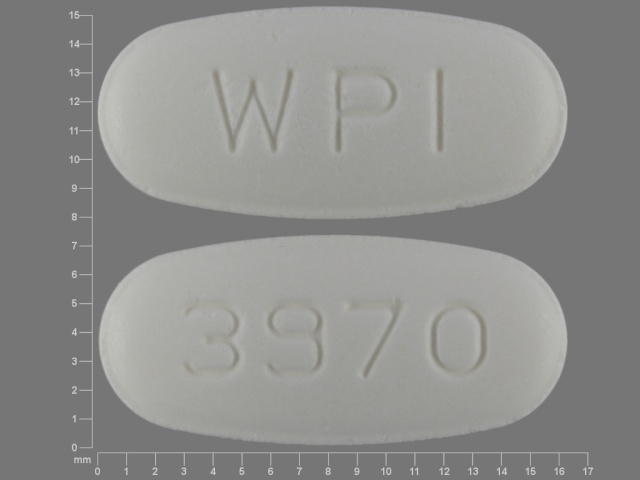0: (427, 299, 492, 384)
3: (179, 297, 246, 387)
7: (342, 292, 408, 385)
9: (264, 299, 328, 386)
I: (428, 62, 458, 159)
P: (332, 67, 401, 153)
W: (207, 63, 302, 164)
